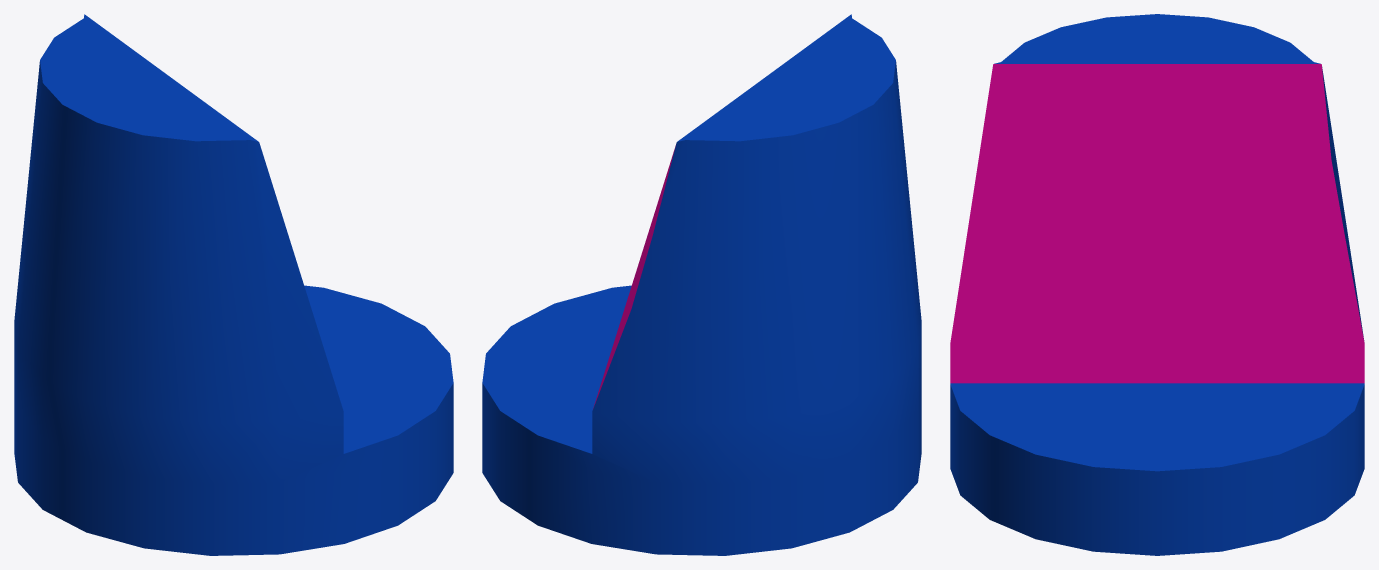
The model's file is PlayerModel.fbx.
The picture shows the model from 3 angles, left to right: view 1: azimuth 30°, elevation 25°; view 2: azimuth 150°, elevation 25°; view 3: azimuth 270°, elevation 25°; orthographic projection. The views are drawn at different scales.
Parts seen in each view (by area): view 1: pCylinder2; view 2: pCylinder2; view 3: pCylinder2.
Part boxes in pixels (left/top/right/bottom): pCylinder2: left=14, top=14, right=453, bottom=555; pCylinder2: left=482, top=14, right=921, bottom=555; pCylinder2: left=950, top=14, right=1364, bottom=555.
Size of the model in its own units: 2 by 2 by 2.
